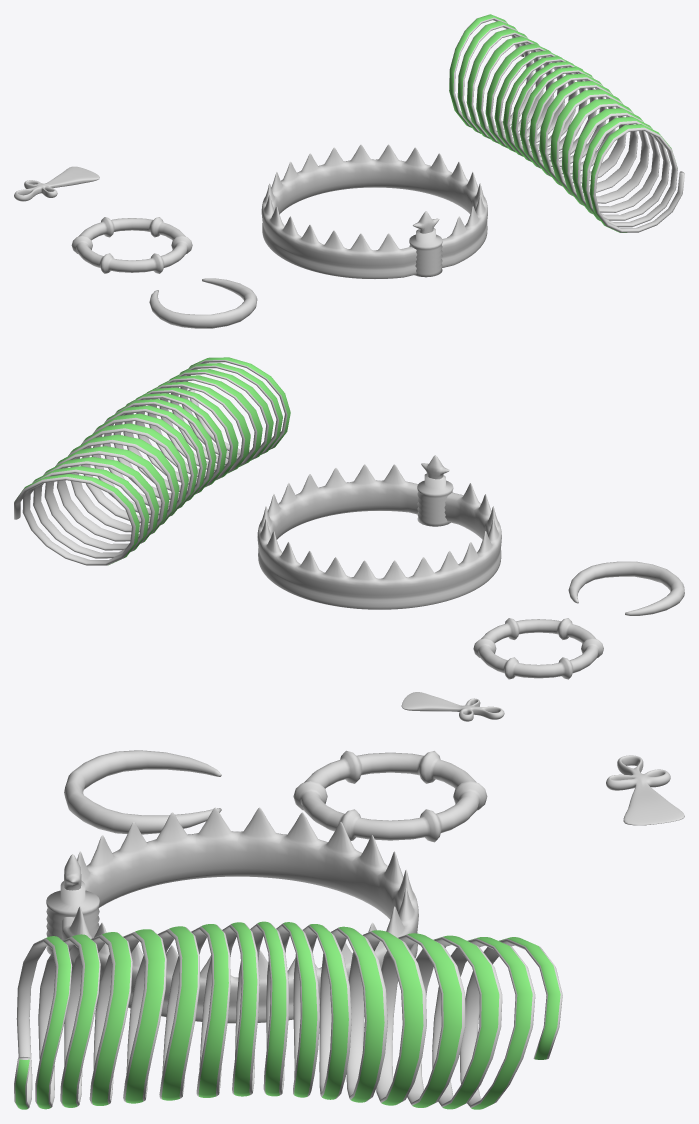
File: Old_jewllery.fbx
3 renders of one model, top to bottom at view 1: azimuth 30°, elevation 25°; view 2: azimuth 150°, elevation 25°; view 3: azimuth 270°, elevation 25°, orthographic. The views are drawn at different scales.
Visible parts, largest first — view 1: Naramiennik, Circle, Torus, Torus.001, pedant, Circle.001; view 2: Naramiennik, Circle, Torus, Torus.001, pedant, Circle.001; view 3: Naramiennik, Circle, Torus, Torus.001, pedant, Circle.001.
Part boxes in pixels (x1,y1,x2,y2): Naramiennik: (449, 14, 684, 232); Circle: (261, 144, 487, 278); Torus: (71, 217, 192, 273); Torus.001: (149, 278, 257, 328); pedant: (14, 166, 99, 201); Circle.001: (409, 228, 442, 277); Naramiennik: (14, 357, 290, 565); Circle: (257, 464, 501, 609); Torus: (473, 618, 603, 679); Torus.001: (568, 561, 684, 615); pedant: (401, 692, 504, 721); Circle.001: (417, 473, 453, 526); Naramiennik: (14, 921, 562, 1109); Circle: (62, 807, 418, 1023); Torus: (293, 750, 487, 842); Torus.001: (64, 750, 221, 834); pedant: (606, 755, 684, 825); Circle.001: (46, 880, 99, 954).
Bounding box in the file's own units: 372 × 85.31 × 275.
